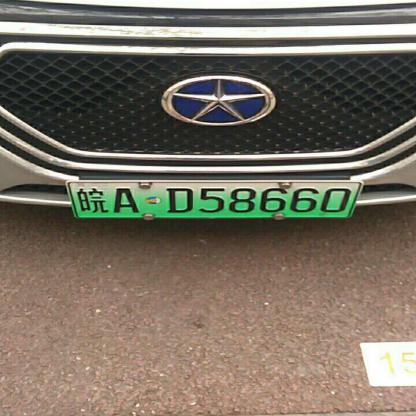lp: (68, 182, 361, 216)
